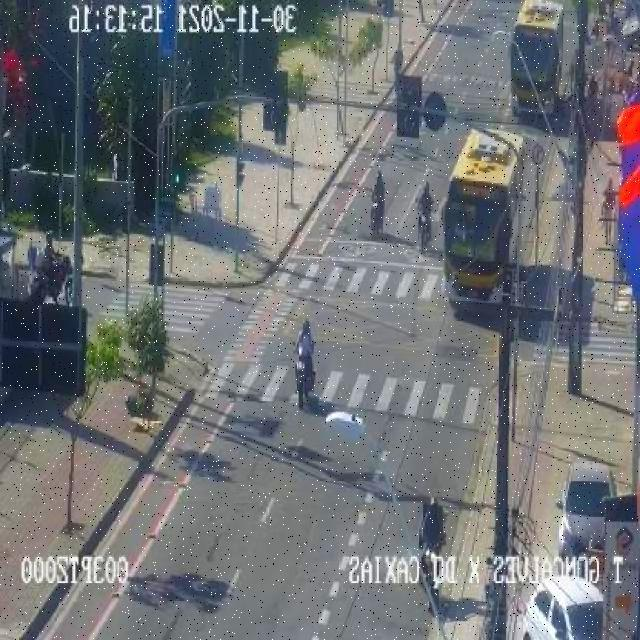Bus: (441, 128, 532, 307), (507, 0, 570, 117)
Cycle: (287, 314, 320, 409), (366, 166, 392, 236), (415, 182, 434, 250)
